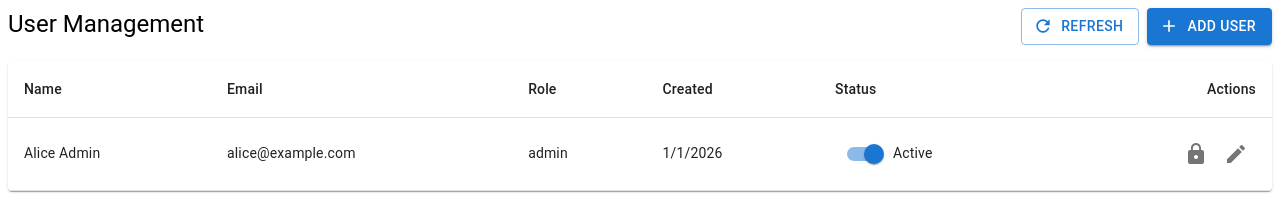
it: UserManagement — listing › refreshes the list when Refresh is clicked
Expected: the text "Alice Admin" is shown, top-left (8, 117), bottom-right (211, 190)
Step 1. Click the button "Refresh" → (1080, 26), box top-left (1021, 8), bottom-right (1139, 44)
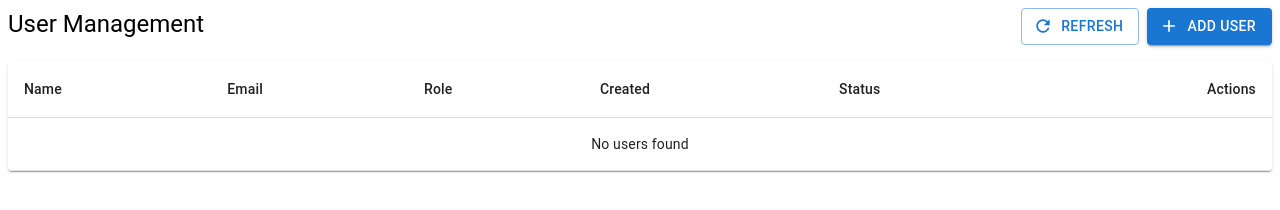
Now the text "No users found" is shown, box top-left (8, 117), bottom-right (1272, 170)
